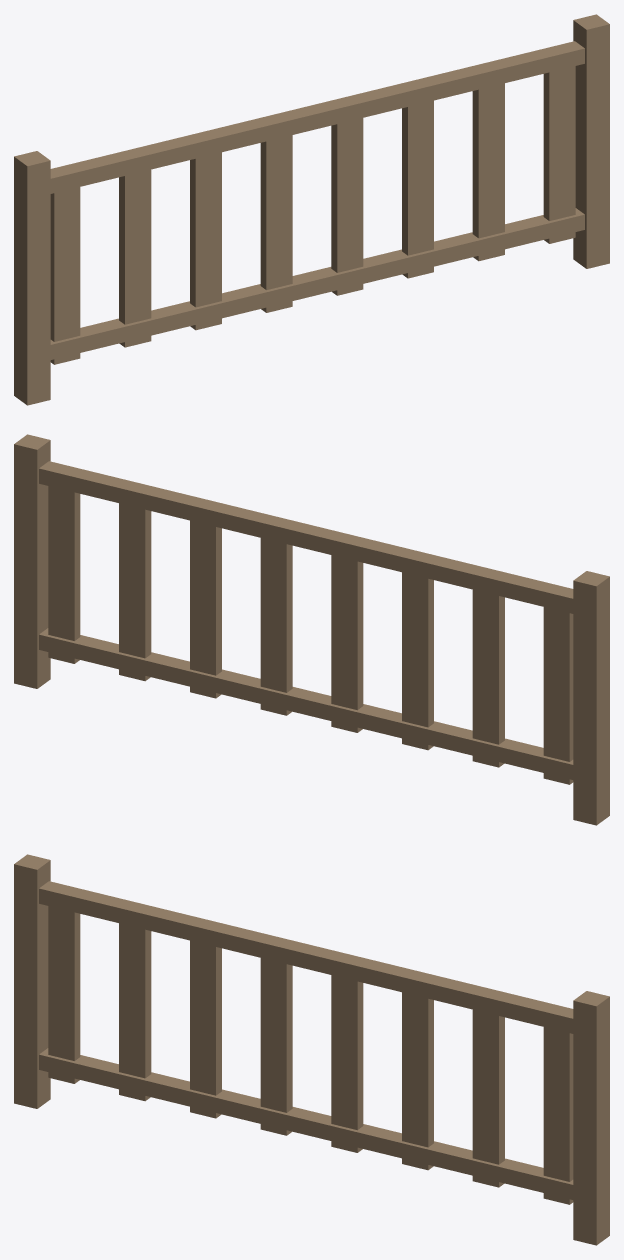
3 renders of one model, top to bottom at view 1: azimuth 30°, elevation 25°; view 2: azimuth 150°, elevation 25°; view 3: azimuth 330°, elevation 25°, orthographic.
Bounding box in the file's own units: 4 × 1.57 × 0.16.
